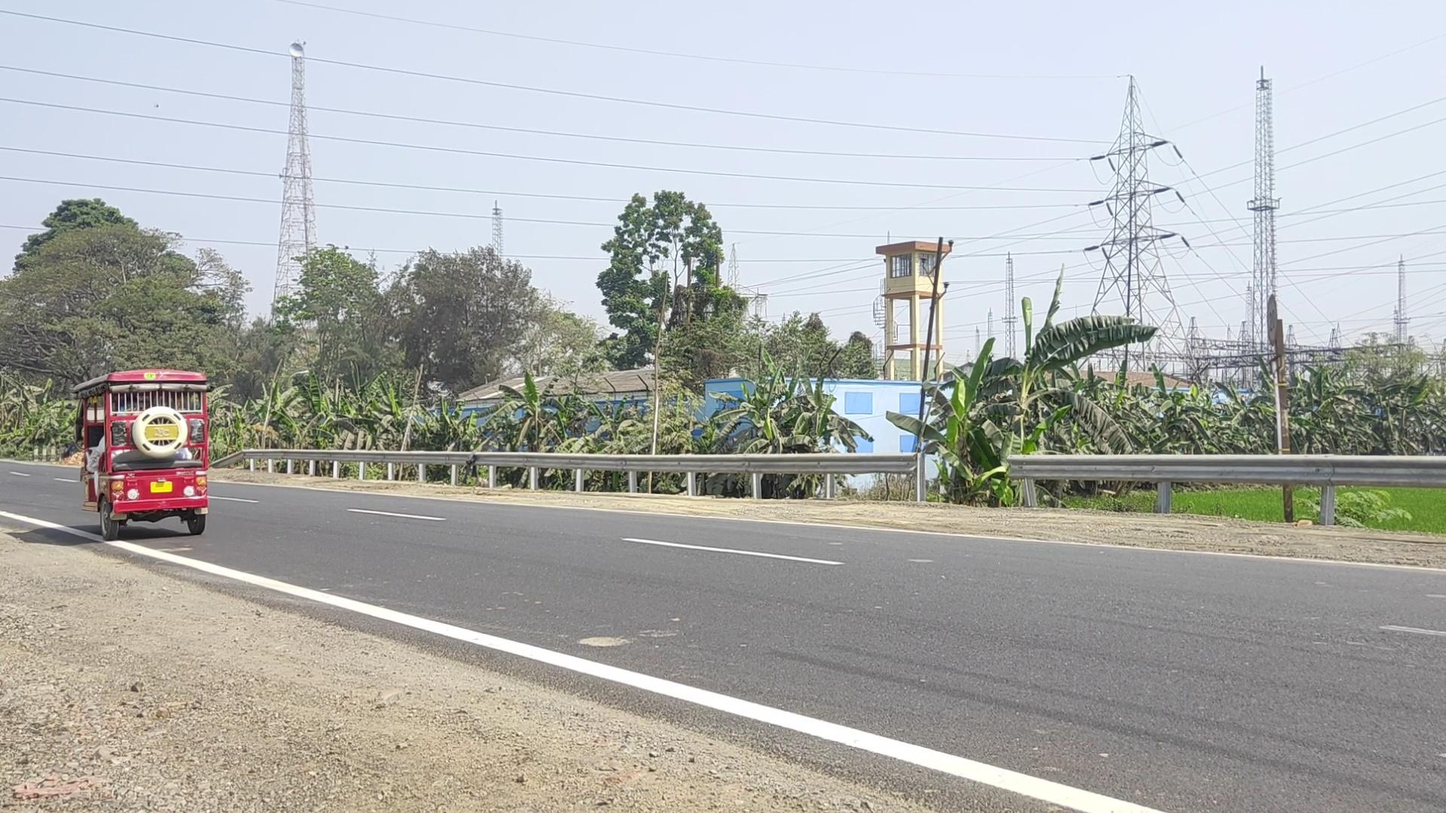Auto: (74, 369, 210, 540)
